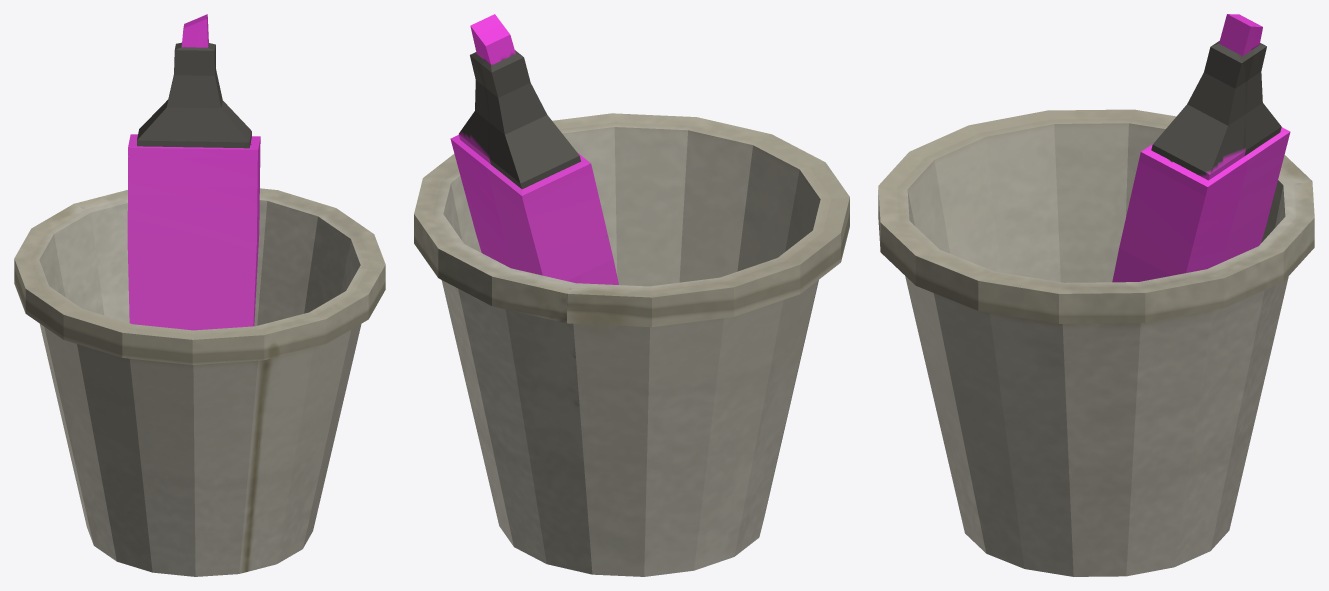
File: markercup.fbx
3 views of the same model, side by side, from view 1: azimuth 30°, elevation 25°; view 2: azimuth 150°, elevation 25°; view 3: azimuth 270°, elevation 25° (orthographic). The views are drawn at different scales.
Parts seen in each view (by area): view 1: MarkerCup; view 2: MarkerCup; view 3: MarkerCup.
Boxes of the visible parts, x1,y1,x2,y2 form: MarkerCup: [14, 14, 385, 576]; MarkerCup: [414, 14, 849, 576]; MarkerCup: [878, 14, 1314, 576].
Size of the model in its own units: 21.45 by 29.42 by 21.45.
